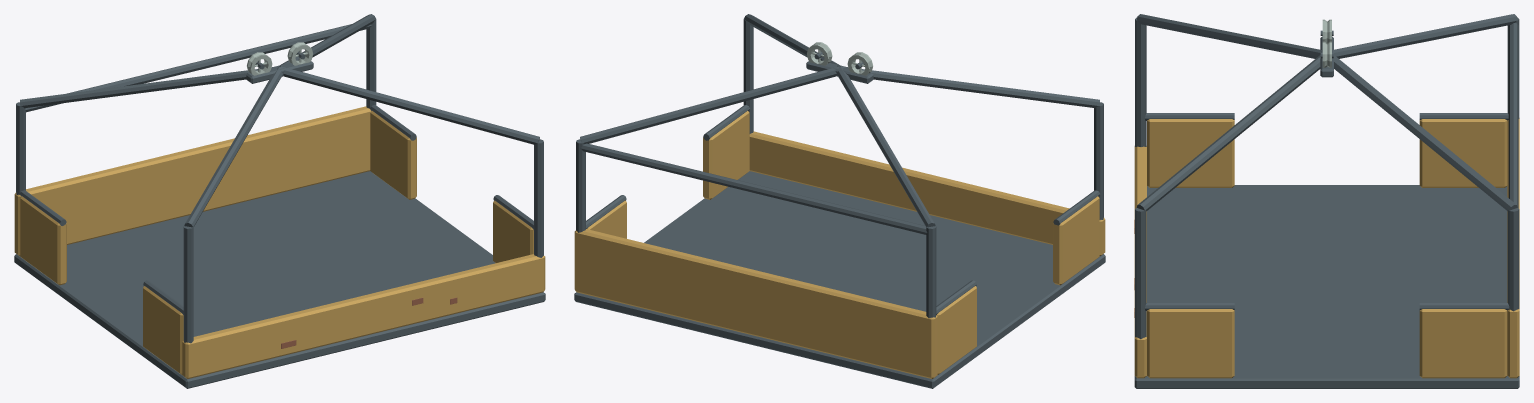
Rendered from gondola_cabin.glb.
3 views of the same model, side by side, from view 1: azimuth 30°, elevation 25°; view 2: azimuth 150°, elevation 25°; view 3: azimuth 270°, elevation 25° (orthographic). The views are drawn at different scales.
Visible parts, largest first — view 1: Keep_Mesh, Occlude_Frame_Mesh; view 2: Keep_Mesh, Occlude_Frame_Mesh; view 3: Keep_Mesh, Occlude_Frame_Mesh.
Part boxes in pixels (bbox=[...]): Keep_Mesh: bbox=[14, 105, 545, 388]; Occlude_Frame_Mesh: bbox=[16, 14, 543, 343]; Keep_Mesh: bbox=[574, 105, 1105, 388]; Occlude_Frame_Mesh: bbox=[576, 14, 1103, 318]; Keep_Mesh: bbox=[1134, 113, 1519, 388]; Occlude_Frame_Mesh: bbox=[1135, 14, 1519, 339].
Bounding box in the file's own units: 6 × 3.73 × 5.01.
